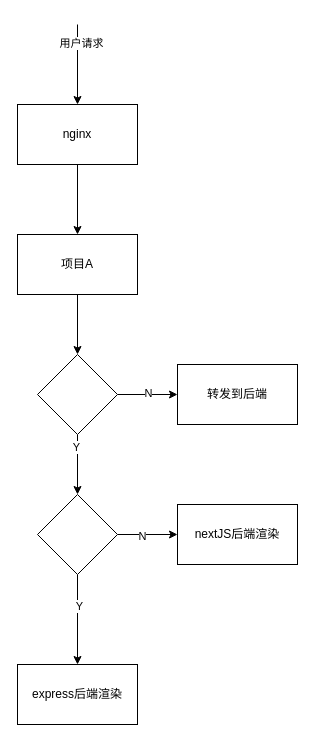
Image size: 315x742. Some labels were removed from this diagram. The shapes that lost their labels are listed below. From the top down, each one's centre as x and y in pixels, then its label:
(77,394): 路由是否匹配？
(77,534): express项目？
